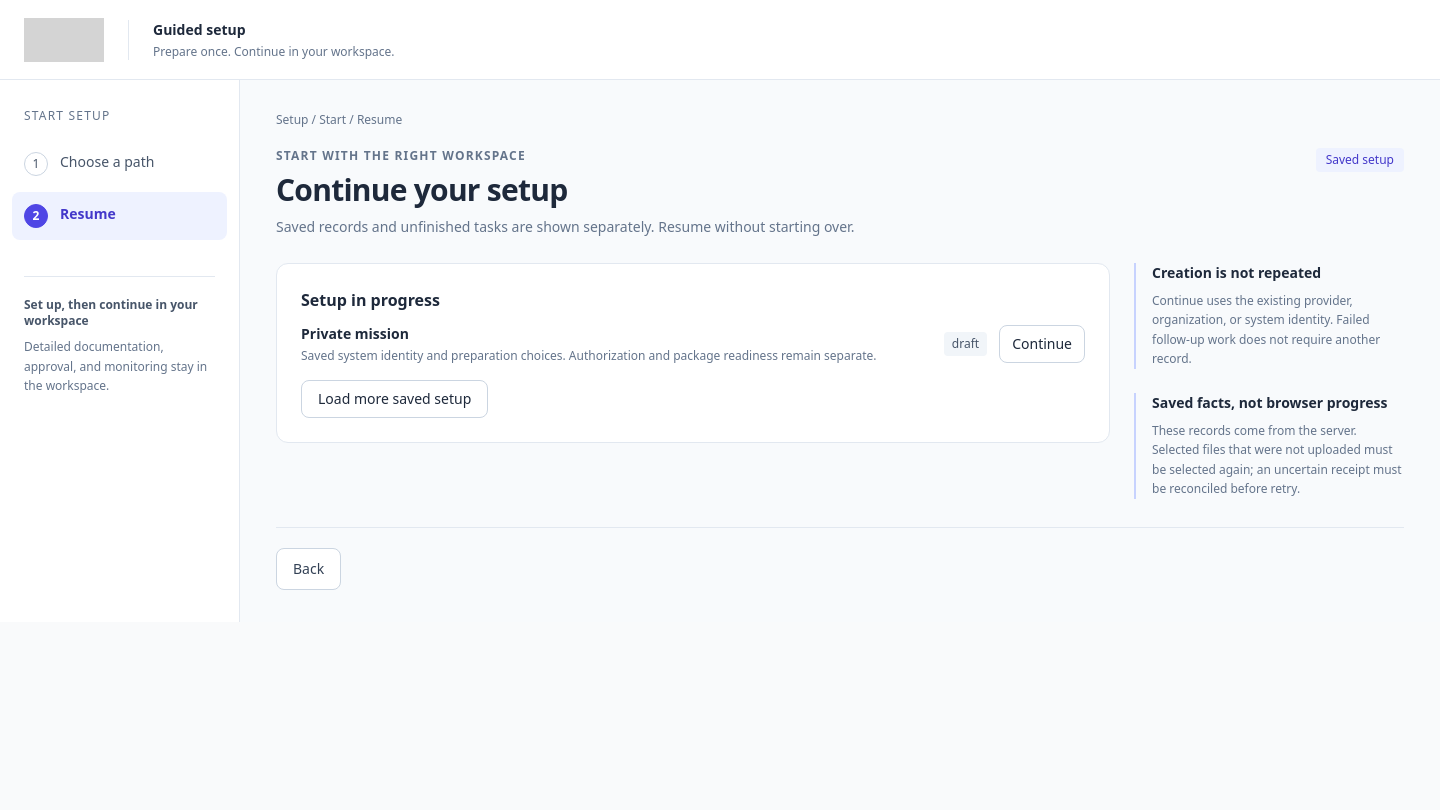
Scenario: setup entry canonical readers › clears retained private records when authorization is lost: Access revoked.
Expected: the link with aria-label "Continue Private mission" is shown, [999,325,1085,363]
Click the button "Load more saved setup" at x=395, y=399, box [301,380,488,418]
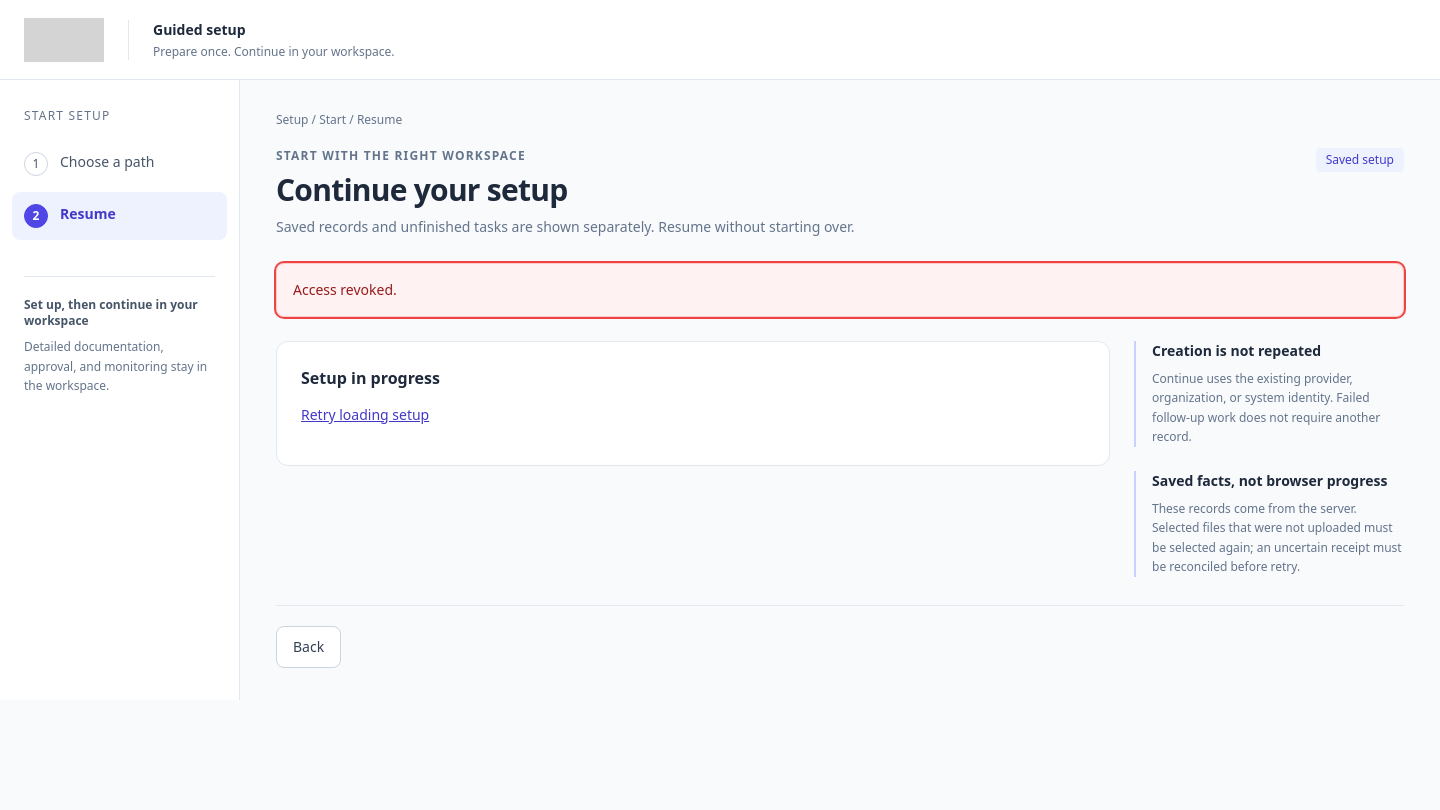
Expected: the message reads "Access revoked.", [293,280,397,299]
Expected: the heading "Private mission" is gone
Expected: the button "Load more saved setup" is gone
